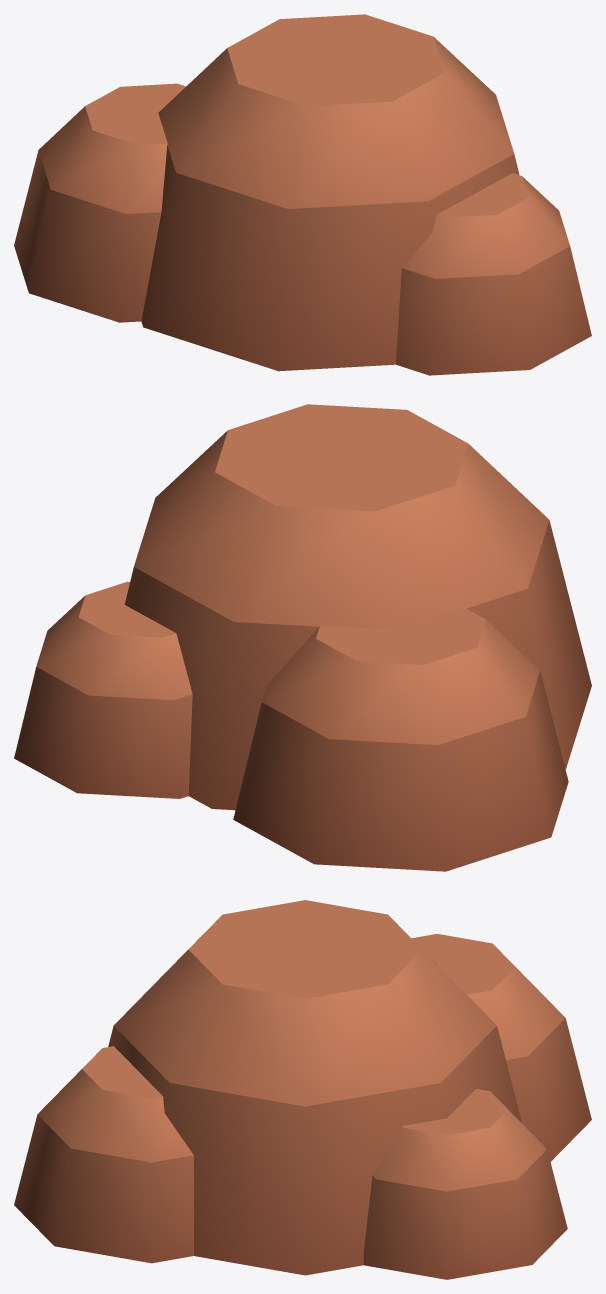
File: cargo-pile-a.glb
3 views of the same model, one above another, from view 1: azimuth 30°, elevation 25°; view 2: azimuth 150°, elevation 25°; view 3: azimuth 270°, elevation 25° (orthographic). The views are drawn at different scales.
Visible parts, largest first — view 1: cargo-pile-a; view 2: cargo-pile-a; view 3: cargo-pile-a.
Boxes of the visible parts, x1,y1,x2,y2 form: cargo-pile-a: [14, 14, 591, 375]; cargo-pile-a: [14, 404, 591, 871]; cargo-pile-a: [14, 900, 591, 1279].
Size of the model in its own units: 2.54 by 1.2 by 2.75.
